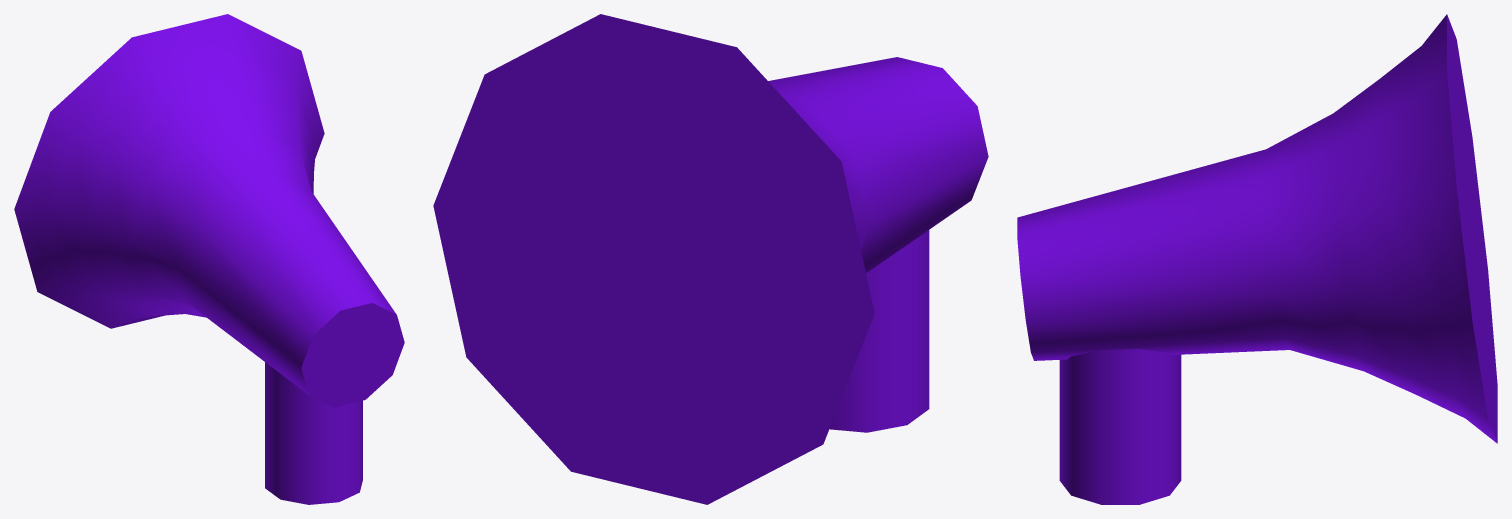
Rendered from Misthorn small.FBX.
3 renders of one model, left to right at view 1: azimuth 30°, elevation 25°; view 2: azimuth 150°, elevation 25°; view 3: azimuth 270°, elevation 25°, orthographic. The views are drawn at different scales.
Parts seen in each view (by area): view 1: Misthorn small; view 2: Misthorn small; view 3: Misthorn small.
Part boxes in pixels (left/top/right/bottom): Misthorn small: left=14, top=14, right=404, bottom=504; Misthorn small: left=433, top=14, right=988, bottom=504; Misthorn small: left=1017, top=14, right=1497, bottom=504.
Size of the model in its own units: 3 by 3.33 by 3.31.
